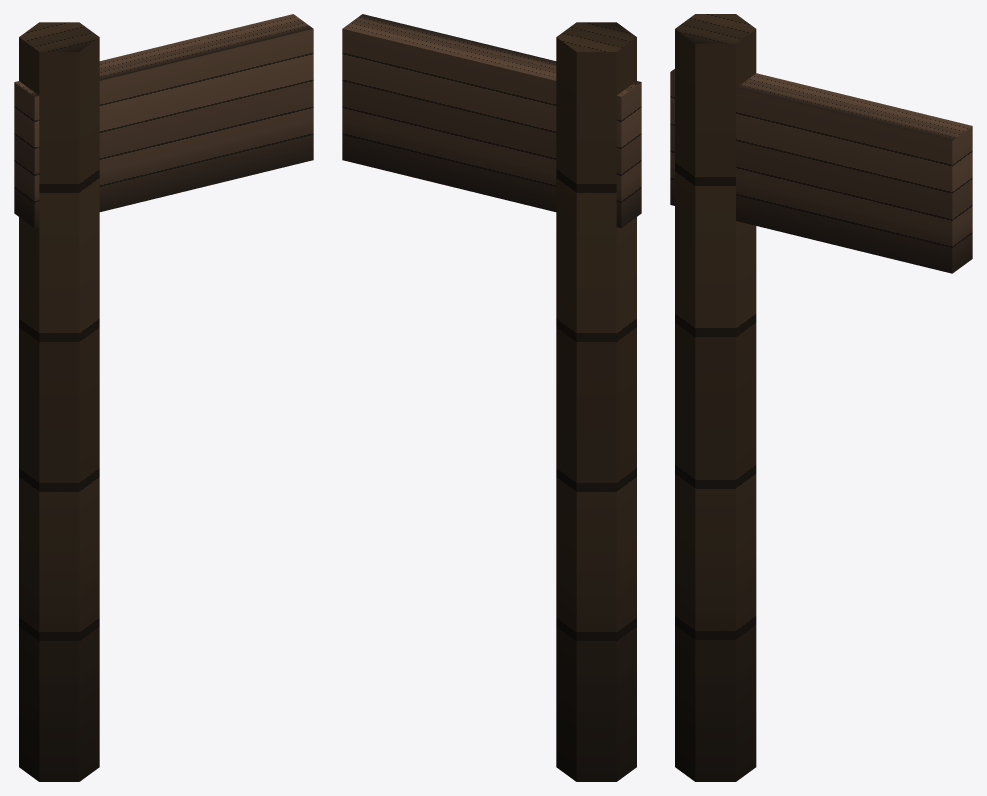
Rendered from signpost.gltf.
3 views of the same model, side by side, from view 1: azimuth 30°, elevation 25°; view 2: azimuth 150°, elevation 25°; view 3: azimuth 330°, elevation 25° (orthographic).
Visible parts, largest first — view 1: signpost; view 2: signpost; view 3: signpost.
Boxes of the visible parts, x1=… form: signpost: x1=14, y1=14, x2=313, y2=781; signpost: x1=342, y1=14, x2=641, y2=781; signpost: x1=670, y1=14, x2=972, y2=781.
Size of the model in its own units: 0.4 by 1 by 0.1.
1 material, 1 textured.
